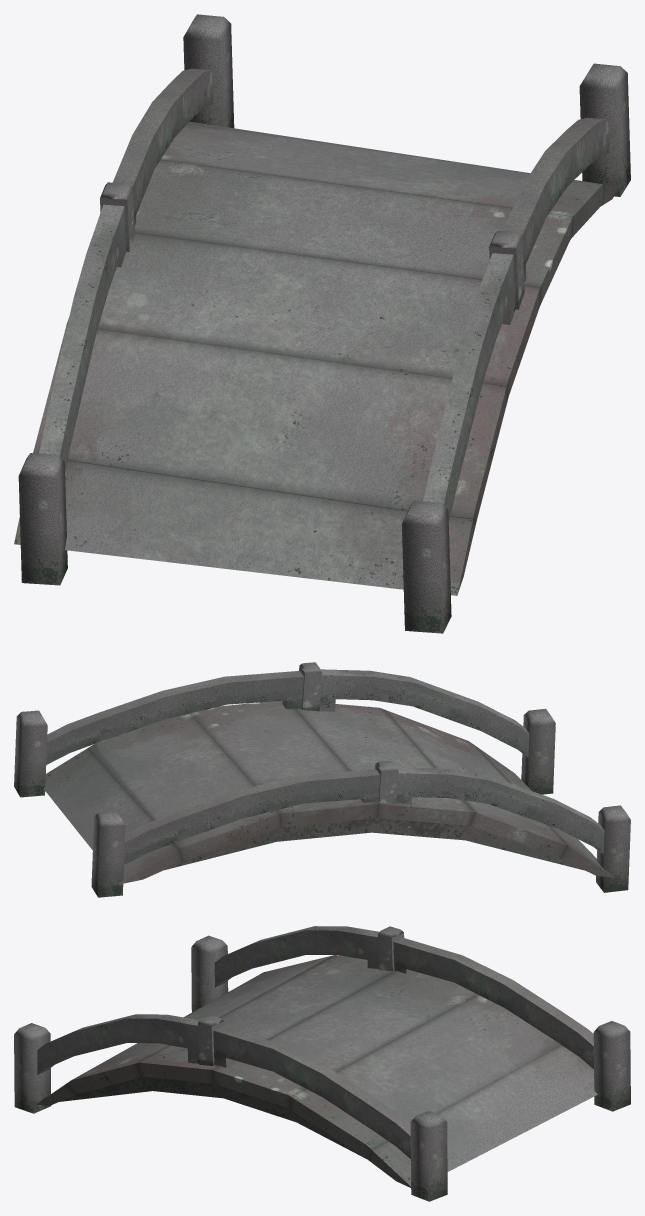
Rendered from BgMD_Tanihira_Bridge_0101.fbx.
3 views of the same model, one above another, from view 1: azimuth 30°, elevation 25°; view 2: azimuth 150°, elevation 25°; view 3: azimuth 270°, elevation 25° (orthographic). The views are drawn at different scales.
Parts seen in each view (by area): view 1: pCube14; view 2: pCube14; view 3: pCube14.
Part boxes in pixels (box(x1,y1,x2,y2)): pCube14: box(14, 14, 630, 633); pCube14: box(14, 662, 630, 897); pCube14: box(14, 926, 630, 1201).
Size of the model in its own units: 1210 by 369 by 1255.
